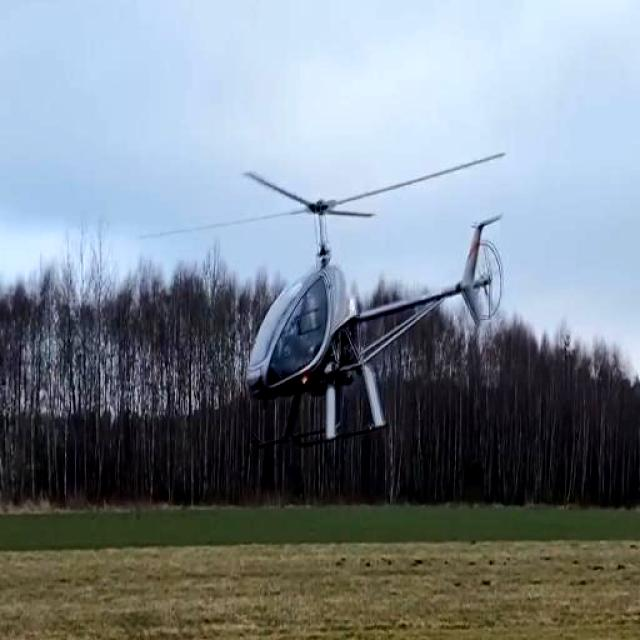drone: (132, 119, 514, 460)
